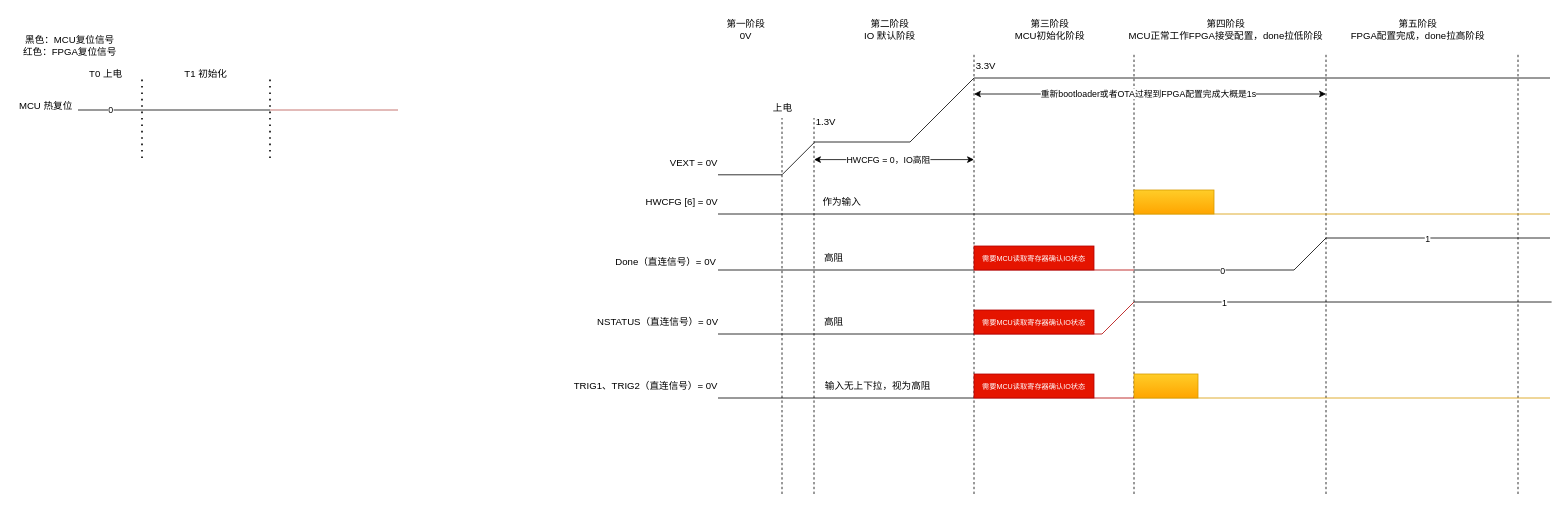
Some shapes in this 1566 by 509 pixel diagram are drawn without their labels. The centre of each missing label's shape, as x and y in pixels:
"作为PPS输出" belongs at (x=1173, y=201).
"输入弱下拉" belongs at (x=1165, y=385).
